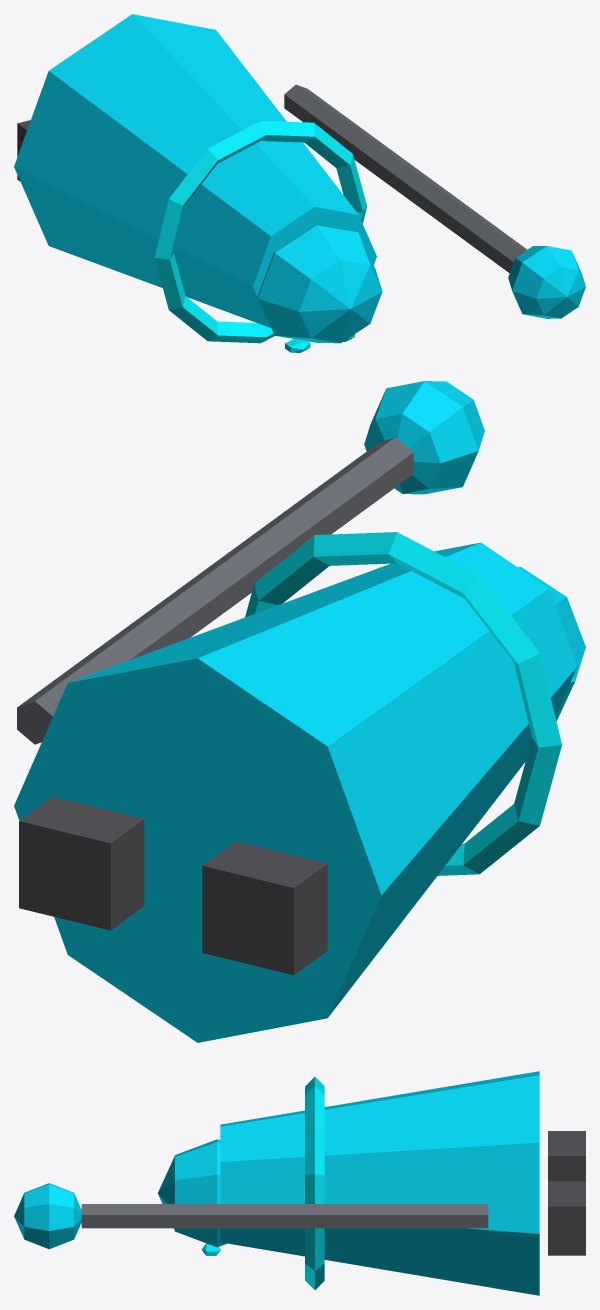
File: TD_Enemy_Mage.fbx
3 views of the same model, one above another, from view 1: azimuth 30°, elevation 25°; view 2: azimuth 150°, elevation 25°; view 3: azimuth 270°, elevation 25° (orthographic). The views are drawn at different scales.
Parts seen in each view (by area): view 1: TD_Enemy_Mage_RobeBody, TD_Enemy_Mage_Head, TD_Enemy_Mage_RobeRing, TD_Enemy_Mage_Staff, TD_Enemy_Mage_MagicOrb; view 2: TD_Enemy_Mage_RobeBody, TD_Enemy_Mage_RobeRing, TD_Enemy_Mage_Staff, TD_Enemy_Mage_Foot_Left, TD_Enemy_Mage_Foot_Right, TD_Enemy_Mage_MagicOrb, TD_Enemy_Mage_Head; view 3: TD_Enemy_Mage_RobeBody, TD_Enemy_Mage_Staff, TD_Enemy_Mage_Head, TD_Enemy_Mage_RobeRing, TD_Enemy_Mage_MagicOrb, TD_Enemy_Mage_Foot_Right, TD_Enemy_Mage_Foot_Left.
Part boxes in pixels (x1,y1,x2,y2): TD_Enemy_Mage_RobeBody: [14, 14, 376, 327]; TD_Enemy_Mage_Head: [257, 225, 382, 343]; TD_Enemy_Mage_RobeRing: [154, 120, 366, 343]; TD_Enemy_Mage_Staff: [284, 84, 527, 273]; TD_Enemy_Mage_MagicOrb: [508, 246, 585, 318]; TD_Enemy_Mage_RobeBody: [14, 542, 577, 1042]; TD_Enemy_Mage_RobeRing: [245, 532, 561, 875]; TD_Enemy_Mage_Staff: [17, 437, 413, 744]; TD_Enemy_Mage_Foot_Left: [202, 841, 327, 975]; TD_Enemy_Mage_Foot_Right: [19, 796, 144, 930]; TD_Enemy_Mage_MagicOrb: [364, 381, 484, 494]; TD_Enemy_Mage_Head: [517, 567, 585, 721]; TD_Enemy_Mage_RobeBody: [220, 1071, 539, 1295]; TD_Enemy_Mage_Staff: [81, 1204, 488, 1228]; TD_Enemy_Mage_Head: [157, 1139, 226, 1247]; TD_Enemy_Mage_RobeRing: [305, 1077, 324, 1289]; TD_Enemy_Mage_MagicOrb: [14, 1183, 81, 1249]; TD_Enemy_Mage_Foot_Right: [548, 1181, 585, 1255]; TD_Enemy_Mage_Foot_Left: [548, 1131, 585, 1181].
Bounding box in the file's own units: 0.5355 × 0.441 × 1.06.
